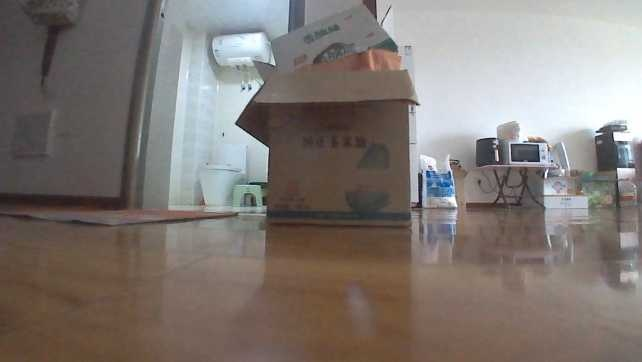blanket: (0, 205, 238, 226)
plastic_stool: (229, 182, 264, 209)
toilet: (195, 140, 248, 206)
